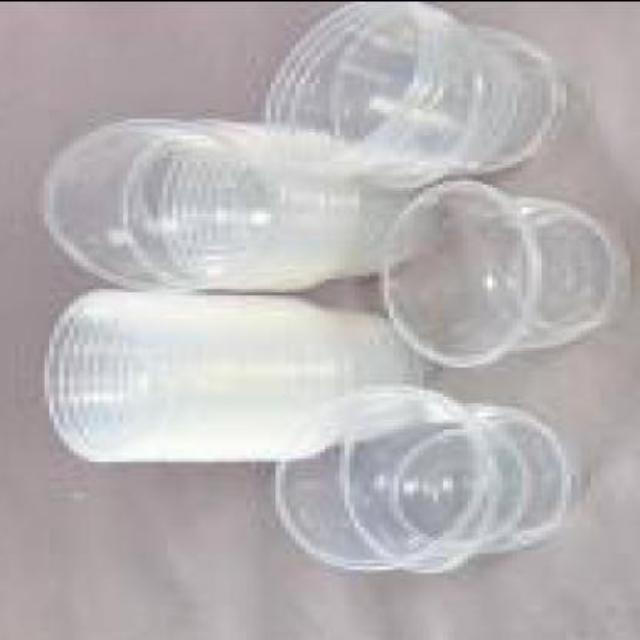plastic_box: (379, 184, 625, 366)
